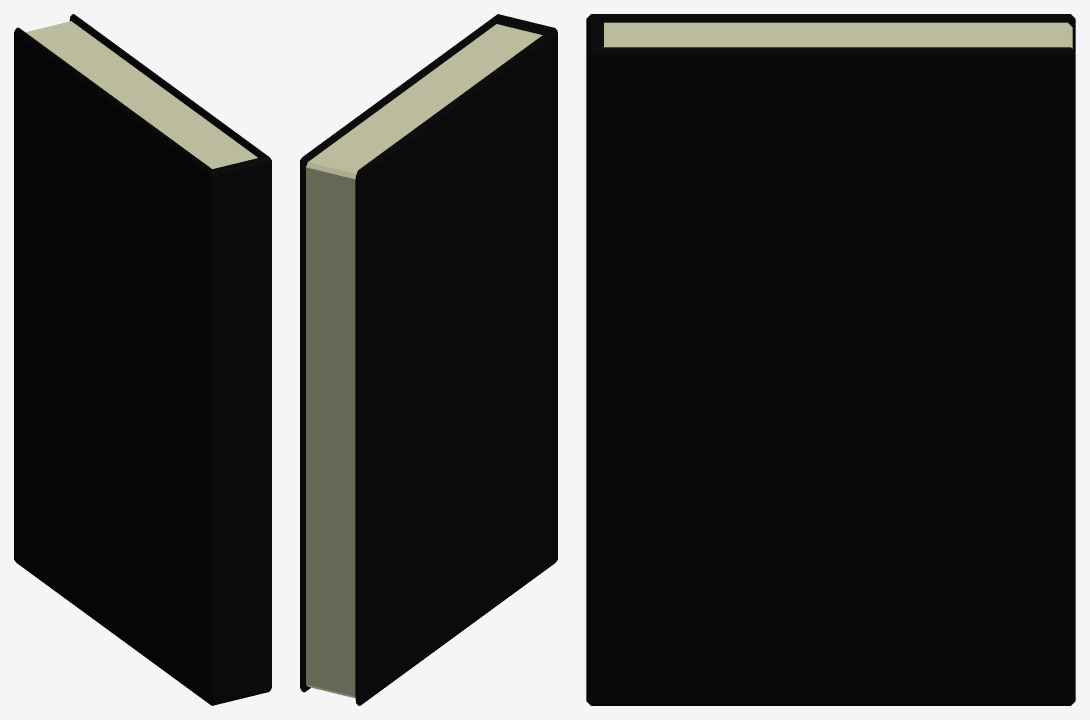
File: BOOK_04.fbx
3 renders of one model, left to right at view 1: azimuth 30°, elevation 25°; view 2: azimuth 150°, elevation 25°; view 3: azimuth 270°, elevation 25°, orthographic. The views are drawn at different scales.
Visible parts, largest first — view 1: BOOK_04; view 2: BOOK_04; view 3: BOOK_04.
Part boxes in pixels (<box>): BOOK_04: <box>14,14,271,705</box>; BOOK_04: <box>300,14,557,705</box>; BOOK_04: <box>586,14,1075,705</box>.
Size of the model in its own units: 1.1 by 8.99 by 6.06.
